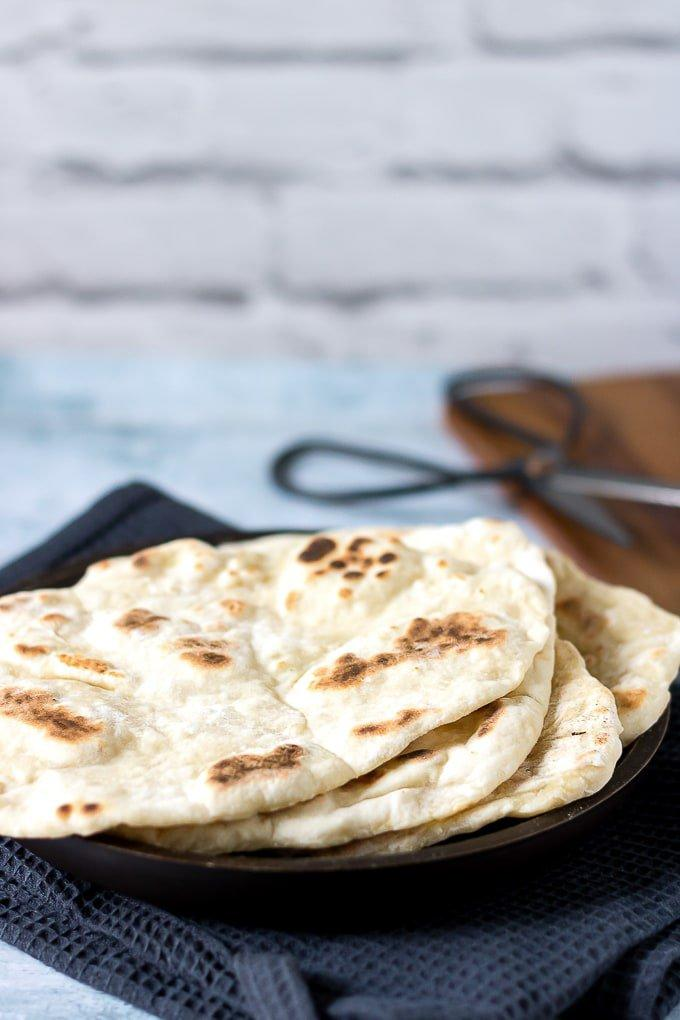Naan: (0, 523, 680, 921)
